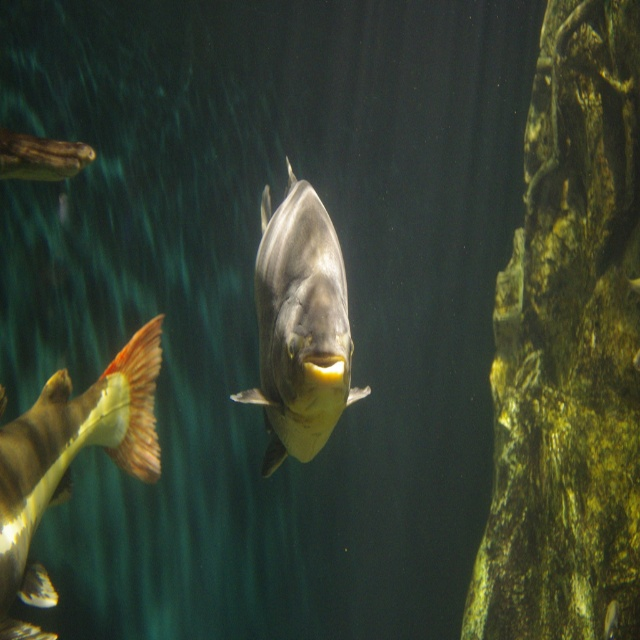Fish: (1, 309, 166, 626), (234, 139, 368, 480)
